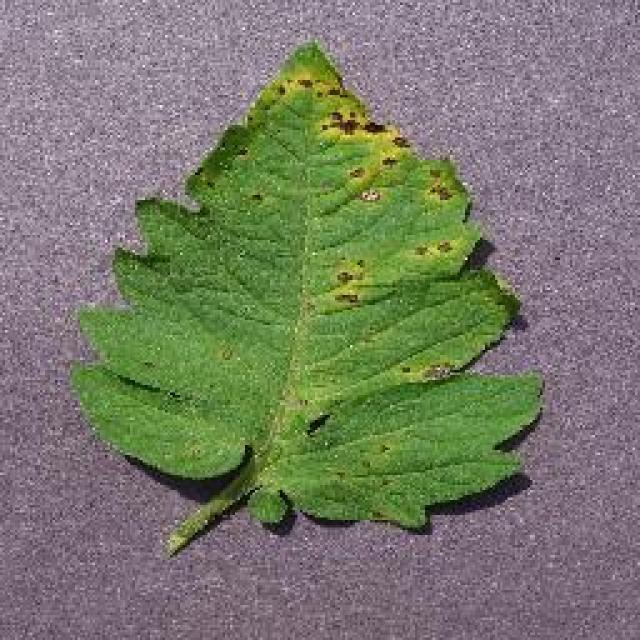Tomato target spot leaf: (74, 46, 541, 532)
